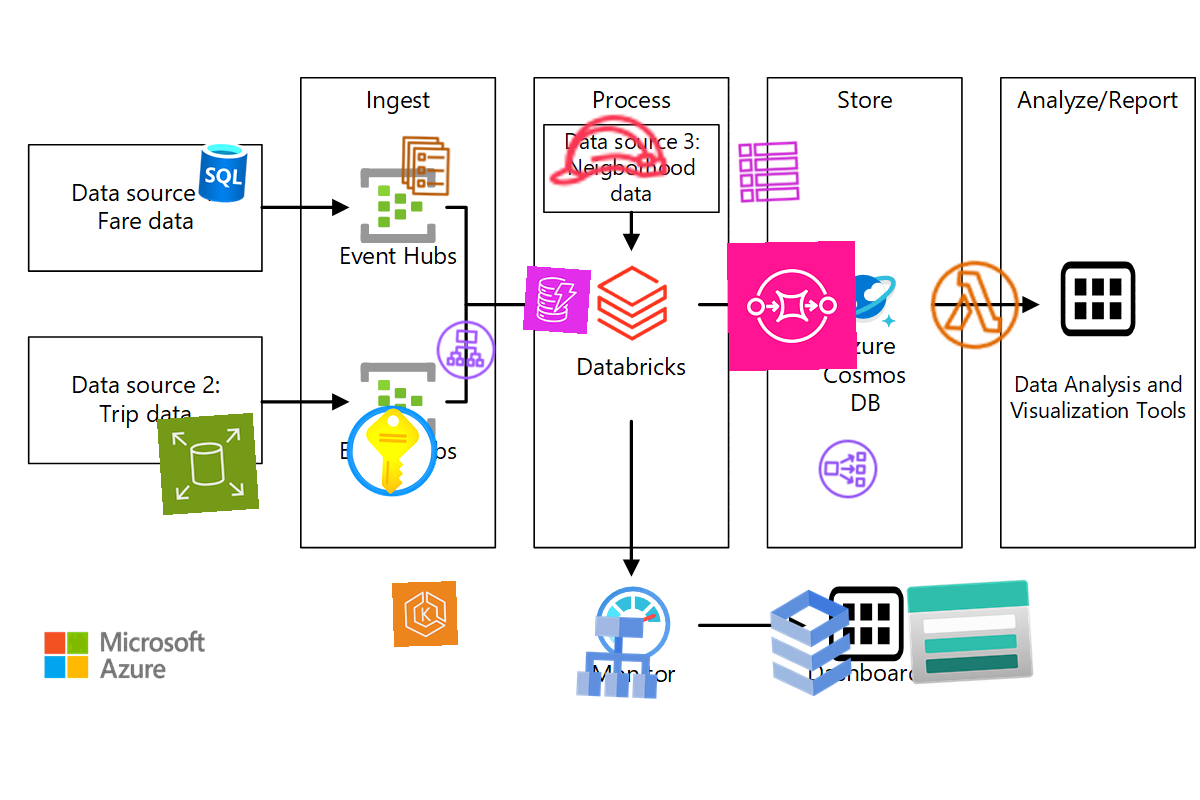aws_amazon_dynamodb: (522, 265, 592, 335)
aws_amazon_elastic_block_store: (156, 412, 260, 516)
aws_amazon_elastic_kubernetes_service: (392, 581, 458, 647)
aws_amazon_simple_queue_service: (726, 240, 858, 372)
aws_dynamodb_table: (735, 138, 803, 206)
aws_elastic_container_service_service: (393, 133, 459, 199)
aws_elastic_load_balancing_application_load_balancer: (432, 316, 500, 384)
aws_elastic_load_balancing_network_load_balancer: (814, 435, 882, 503)
aws_identity_access_management_role: (539, 82, 675, 218)
aws_lambda_lambda_function: (923, 253, 1027, 357)
azure_key_vaults: (342, 401, 442, 501)
azure_sql_database: (188, 137, 258, 207)
azure_storage_accounts: (902, 564, 1038, 700)
gcp_cloud_load_balancing: (568, 607, 668, 707)
gcp_cloud_sql: (743, 575, 879, 711)
